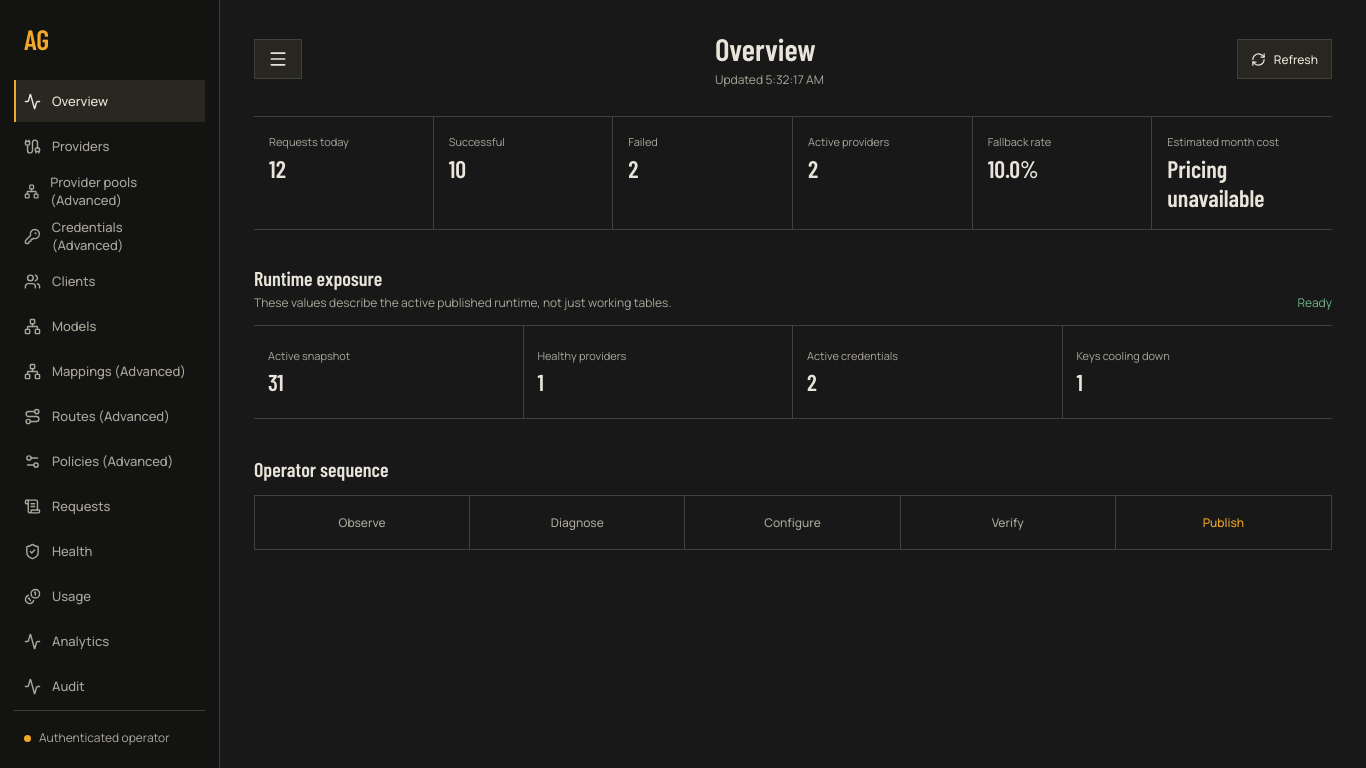
Test case: control plane › issues a labeled expiring gateway key
Click the button "Clients".
click(110, 281)  # box x1=14 y1=260 x2=205 y2=302
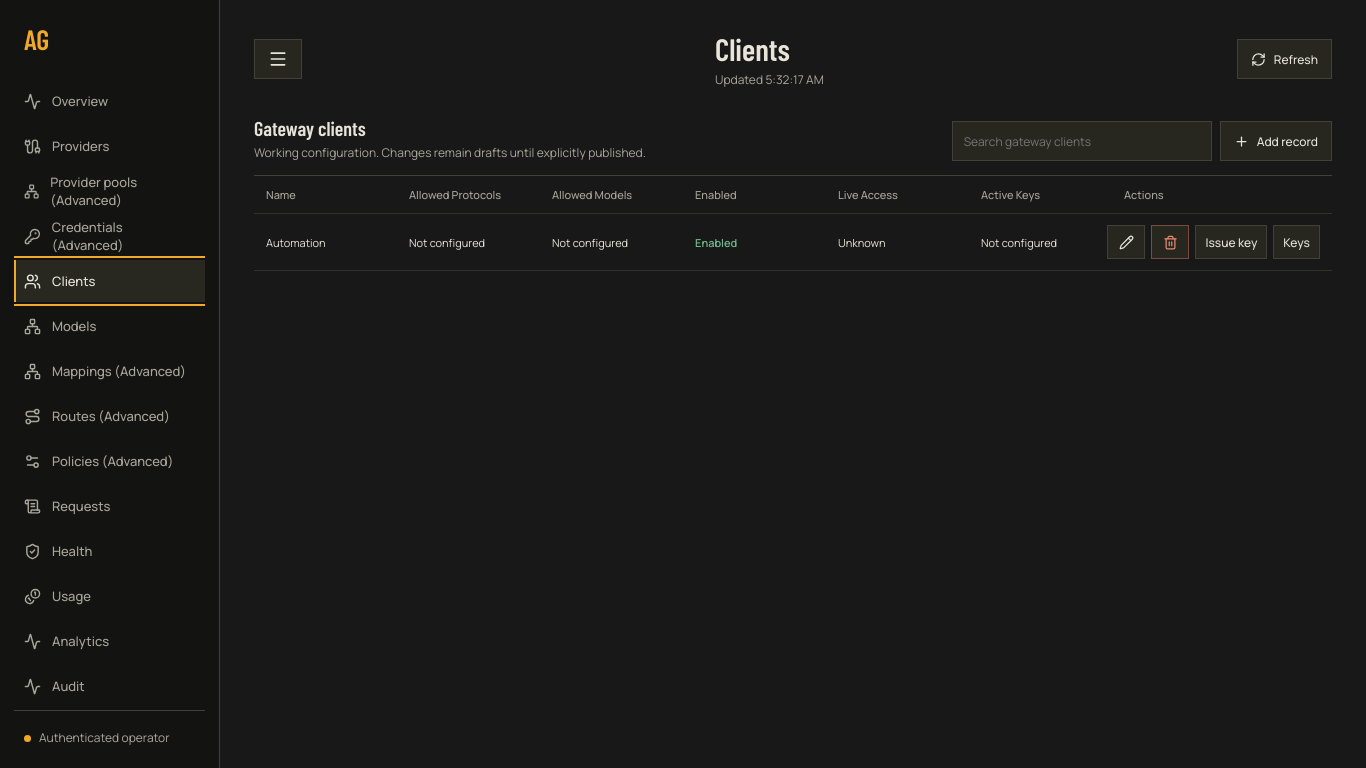
Click the button "Issue key".
click(1231, 242)  # box x1=1196 y1=225 x2=1267 y2=259
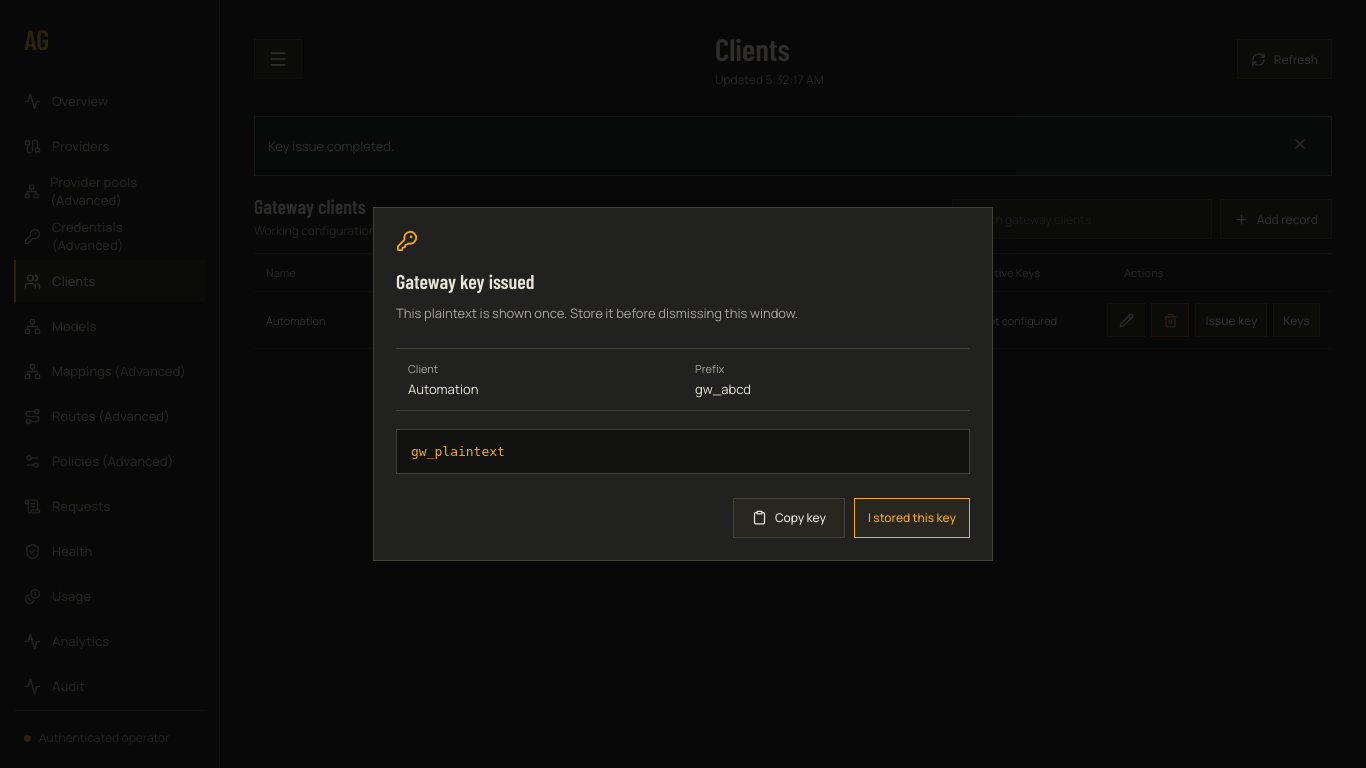
Now the heading "Gateway key issued" is shown, box x1=396 y1=269 x2=535 y2=293
